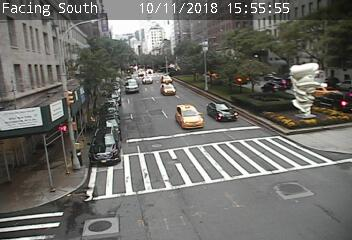car: (175, 105, 202, 130), (206, 102, 237, 122), (124, 79, 138, 93), (161, 84, 176, 95), (161, 75, 172, 84), (142, 76, 151, 83)
